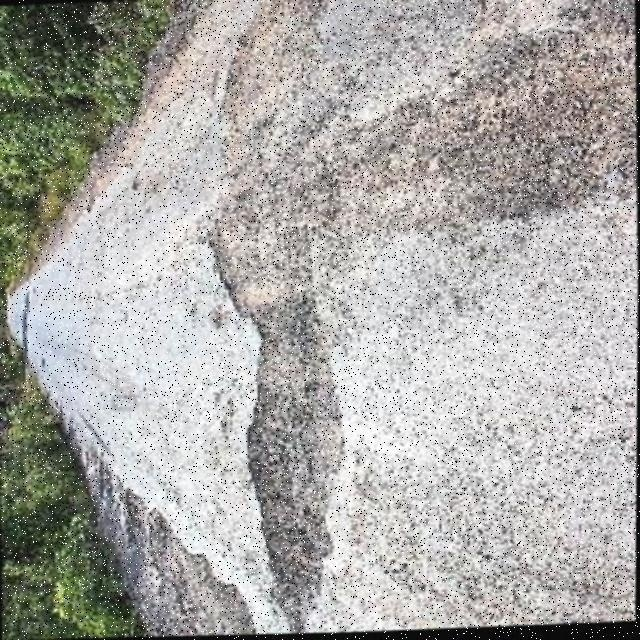pothole: (202, 223, 352, 636)
